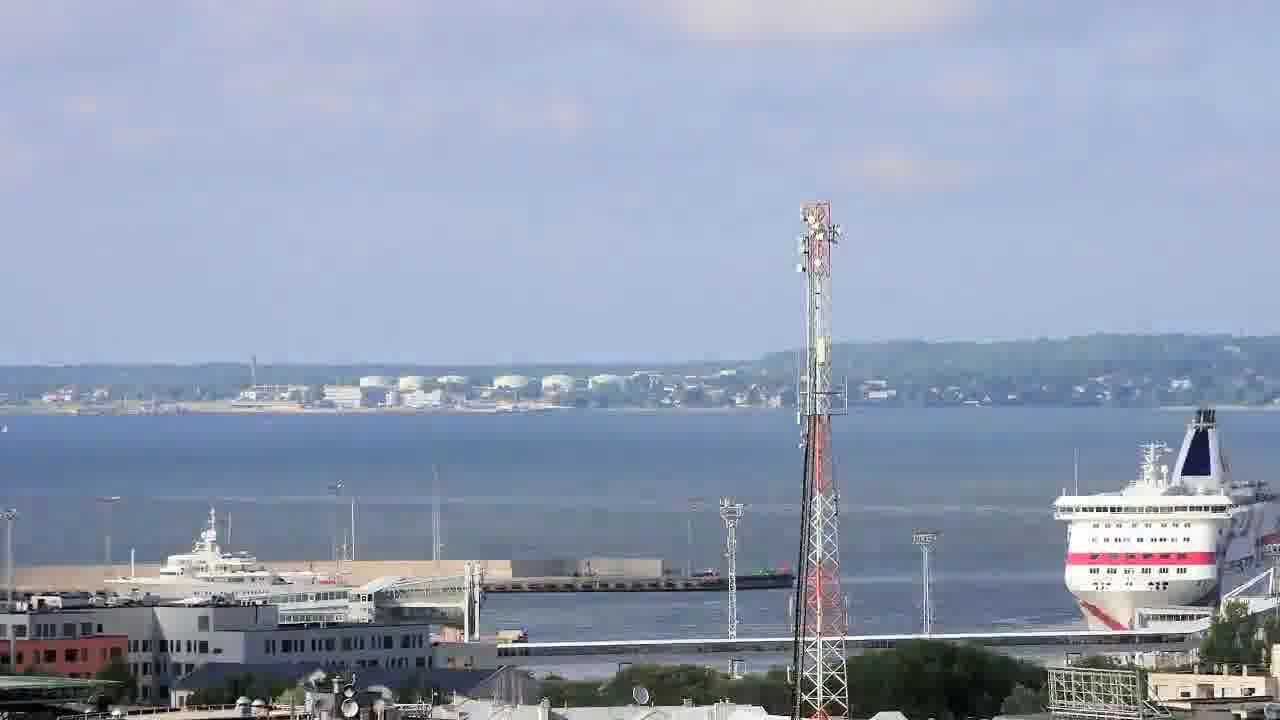type-3: (1029, 384, 1280, 638), (89, 518, 402, 620)
